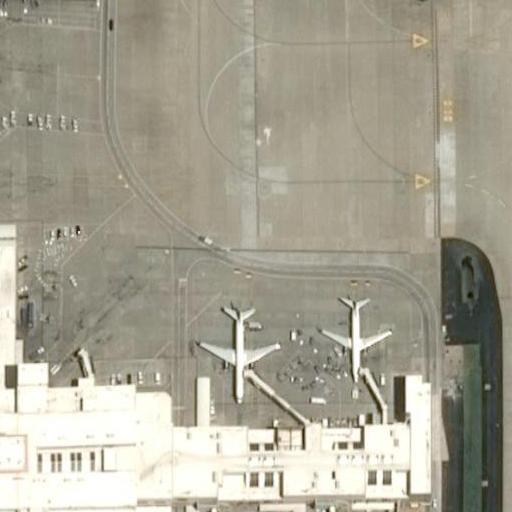Aircraft: (195, 297, 283, 404), (319, 285, 397, 394)
